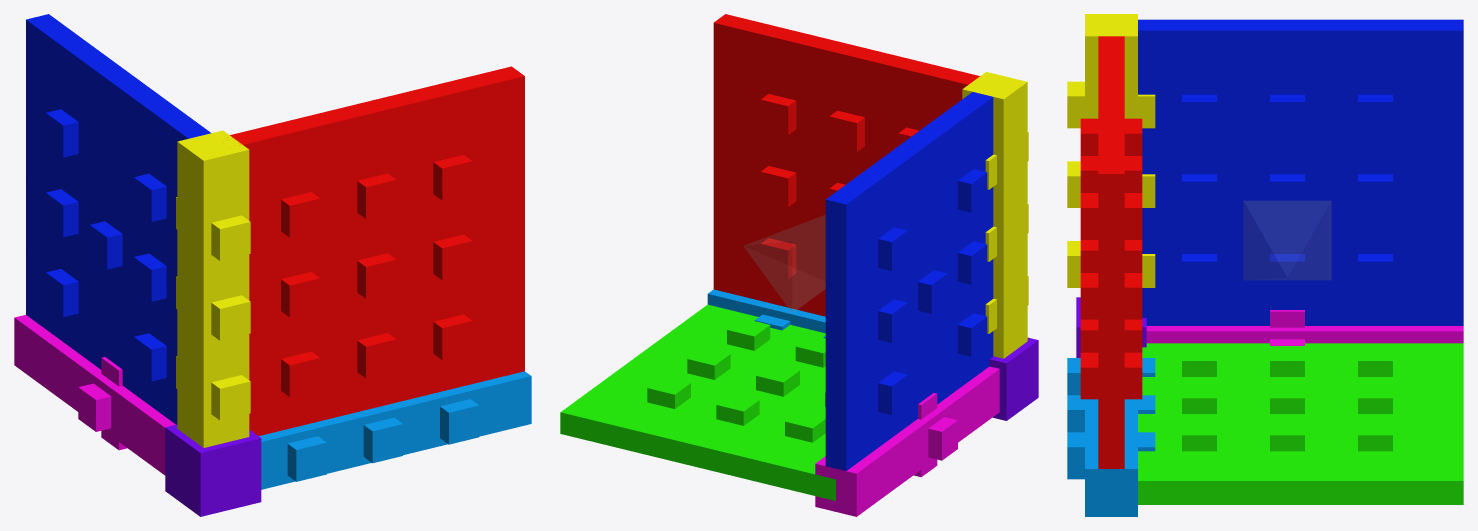
File: PruebaCell.FBX
3 views of the same model, side by side, from view 1: azimuth 30°, elevation 25°; view 2: azimuth 150°, elevation 25°; view 3: azimuth 270°, elevation 25° (orthographic). The views are drawn at different scales.
Visible parts, largest first — view 1: Floor, WallBack, AncorPoint (×23), BeamBack, BeamLeft, Column, Vertex; view 2: WallBack, Floor, WallLeft, AncorPoint (×19), BeamBack, Column, Center, Vertex, BeamLeft; view 3: WallBack, WallLeft, AncorPoint (×41), Floor, Center, Column, BeamLeft, BeamBack, WalkPoint, Vertex.
Boxes of the visible parts, x1,y1,x2,y2 form: Floor: [227, 66, 524, 435]; WallBack: [26, 14, 211, 424]; AncorPoint (×23): [46, 109, 479, 481]; BeamBack: [177, 130, 249, 447]; BeamLeft: [259, 371, 531, 489]; Column: [14, 315, 175, 475]; Vertex: [165, 424, 261, 516]; WallBack: [825, 92, 993, 470]; Floor: [713, 14, 979, 316]; WallLeft: [560, 304, 835, 500]; AncorPoint (×19): [647, 94, 987, 460]; BeamBack: [962, 72, 1027, 358]; Column: [815, 366, 999, 516]; Center: [744, 215, 825, 312]; Vertex: [989, 337, 1038, 420]; BeamLeft: [707, 289, 825, 333]; WallBack: [1138, 19, 1463, 325]; WallLeft: [1138, 343, 1463, 504]; AncorPoint (×41): [1067, 81, 1392, 479]; Floor: [1098, 36, 1124, 468]; Center: [1243, 201, 1331, 279]; Column: [1146, 326, 1463, 343]; BeamLeft: [1085, 399, 1137, 516]; BeamBack: [1085, 14, 1137, 118]; WalkPoint: [1124, 240, 1142, 272]; Vertex: [1076, 297, 1146, 357].
Size of the model in its own units: 2.25 by 2.25 by 2.25.
